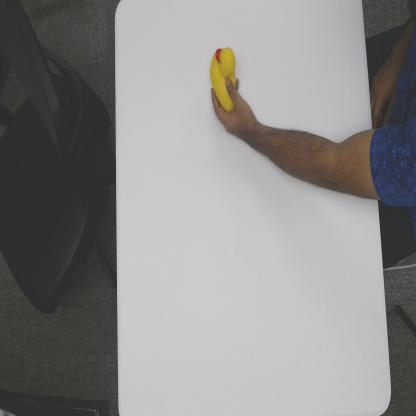Arm: (254, 120, 378, 202)
Duck: (209, 43, 238, 114)
Hand: (209, 76, 254, 142)
